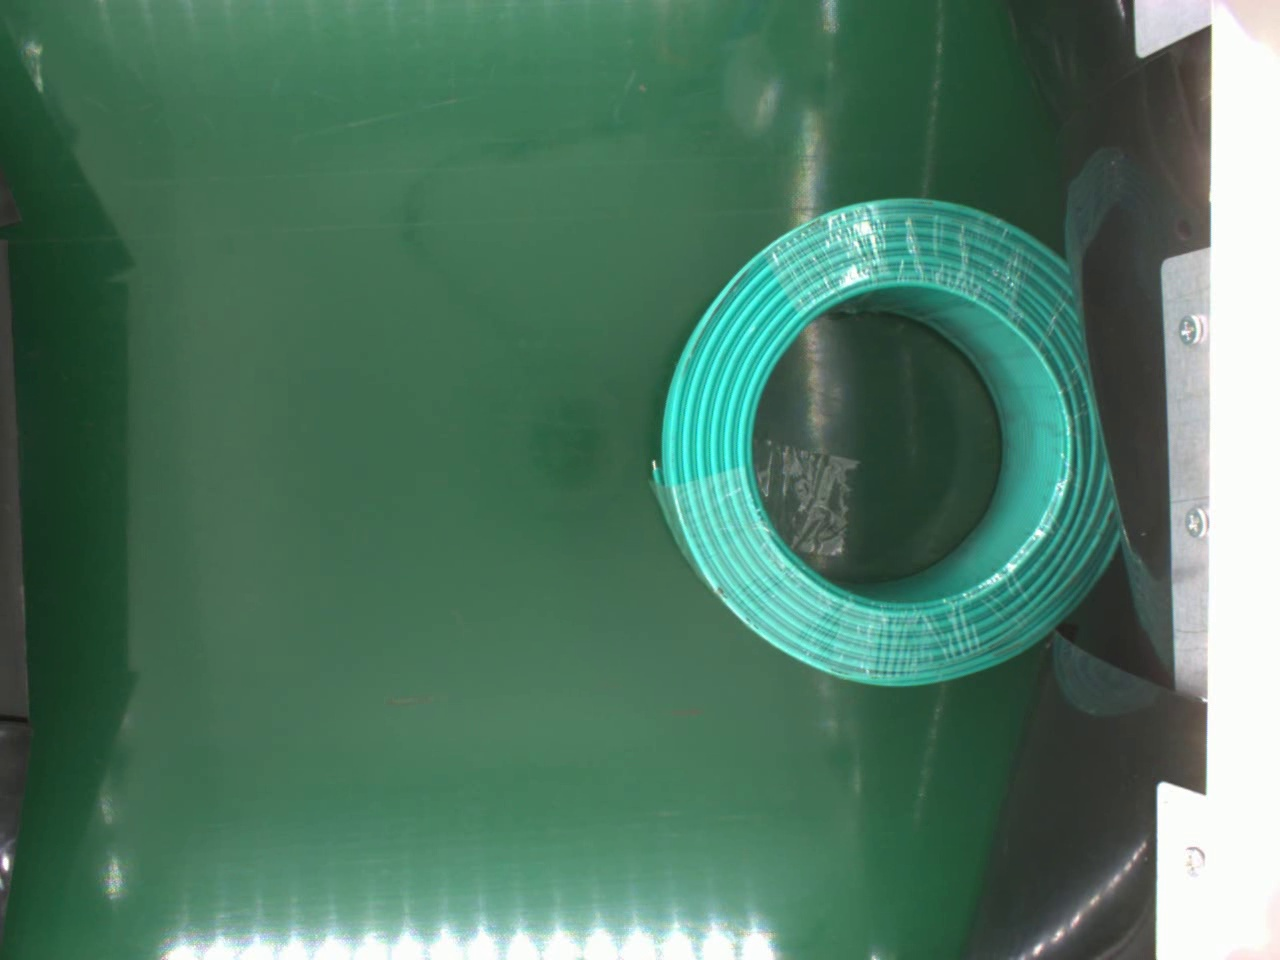green: (648, 197, 1118, 694)
